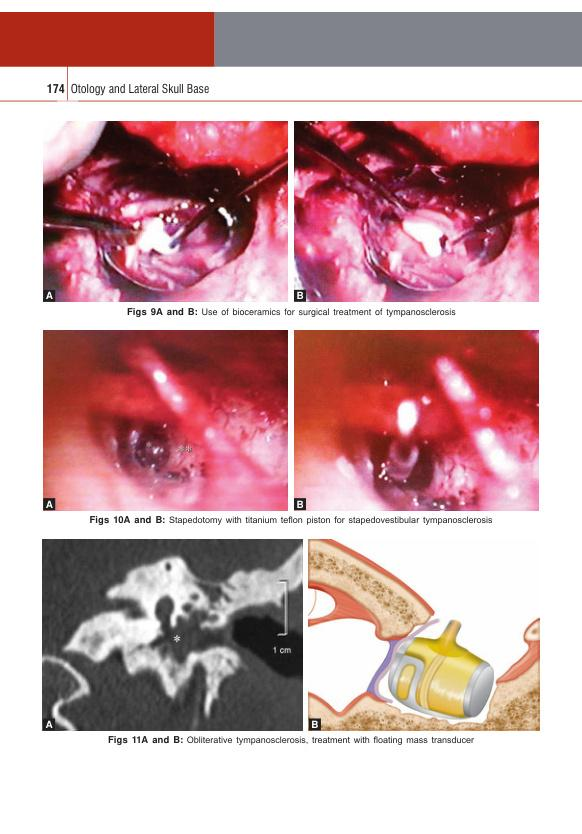caption: (88, 515, 493, 527), (107, 734, 476, 746), (126, 307, 457, 318), (44, 290, 55, 301), (44, 719, 55, 730), (310, 718, 320, 730), (295, 290, 305, 301), (45, 499, 55, 509), (295, 499, 305, 509)
header: (70, 83, 211, 97)
image: (42, 538, 303, 731), (43, 120, 289, 303), (294, 329, 540, 512), (308, 538, 541, 731), (294, 121, 539, 302), (43, 330, 288, 511)
